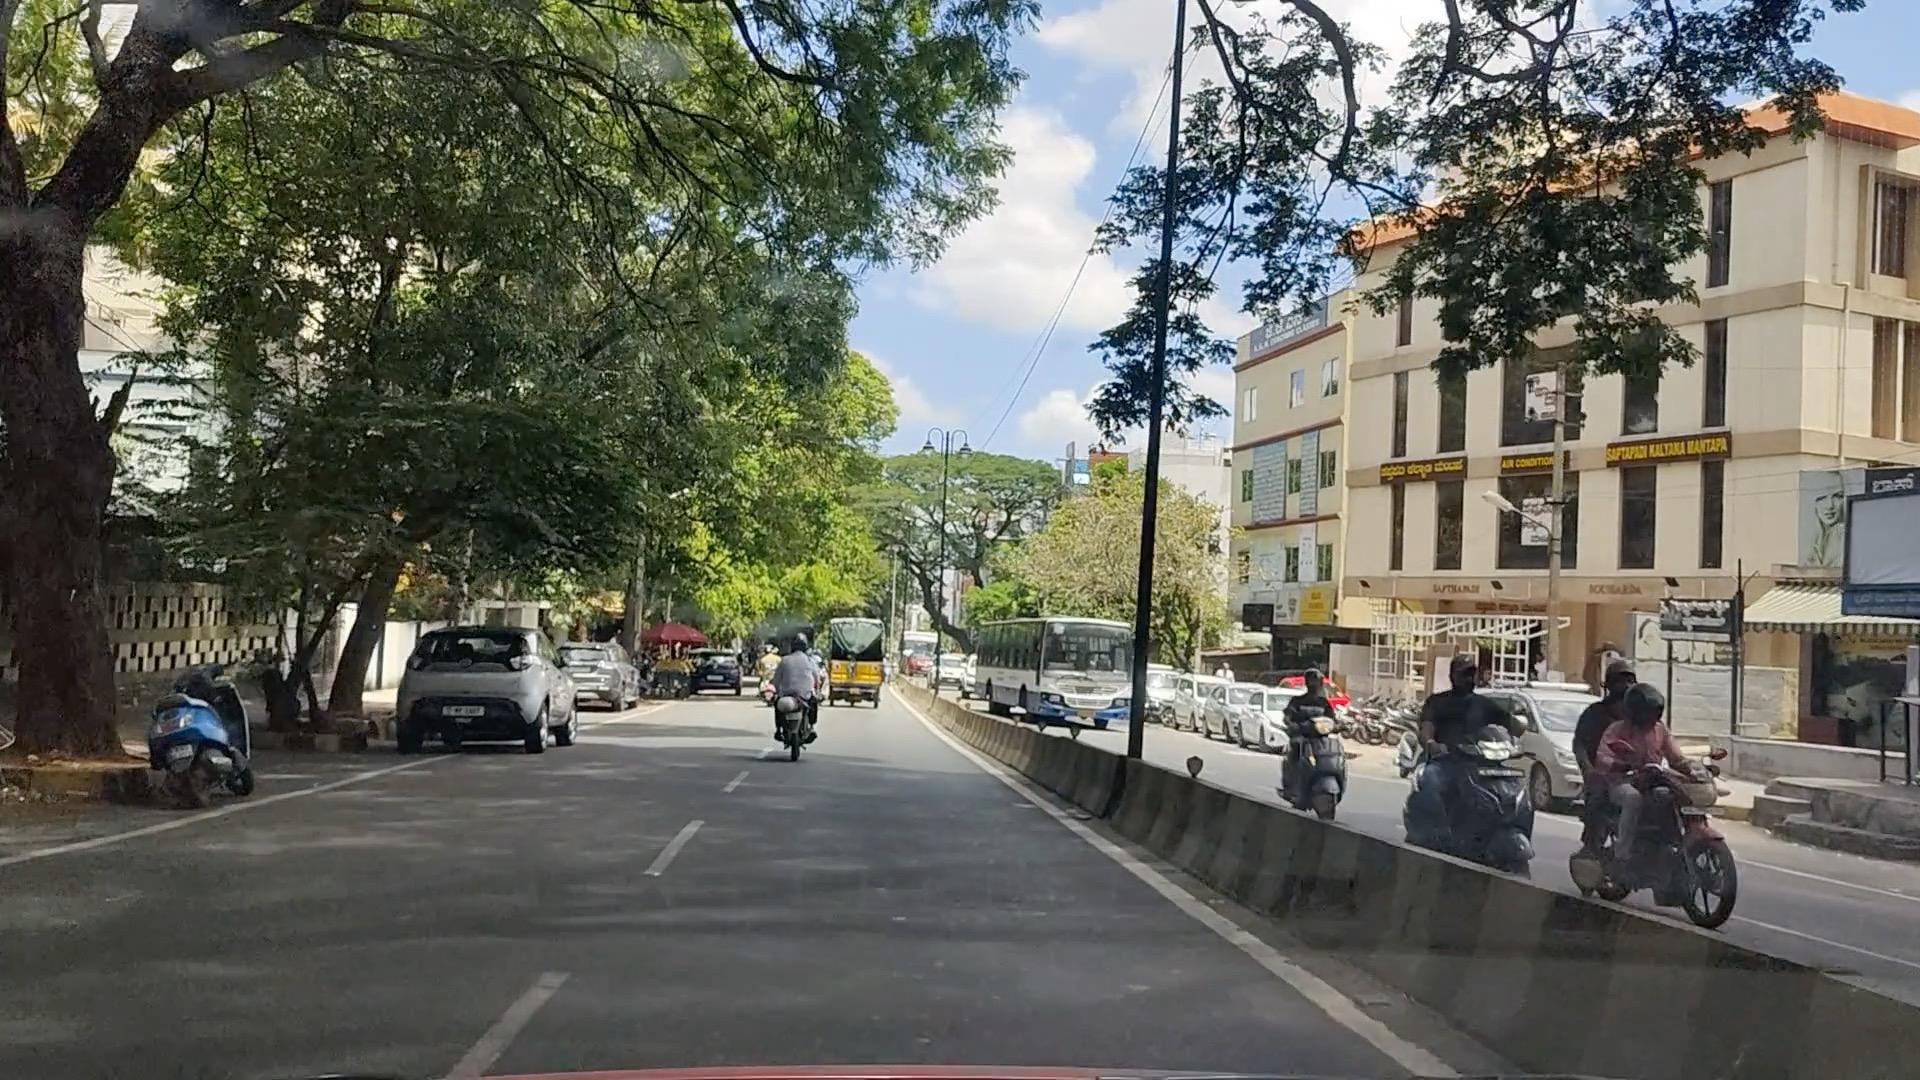LMV: (393, 630, 600, 757), (733, 633, 833, 745)
